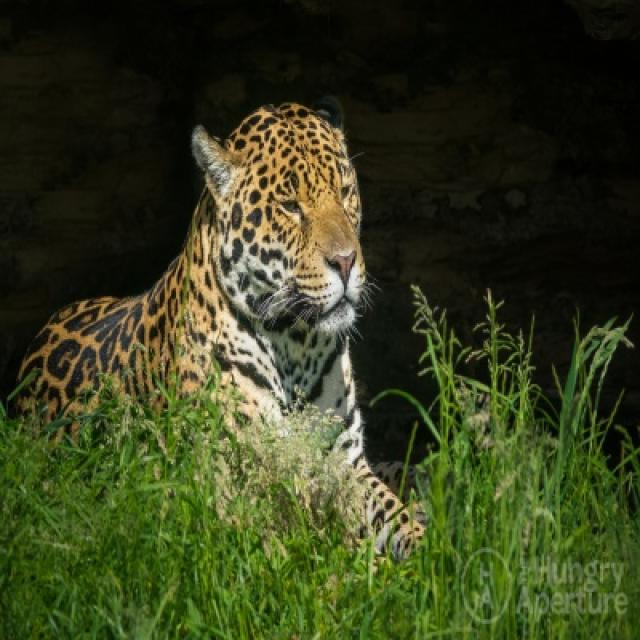Jaguar: (2, 96, 416, 558)
